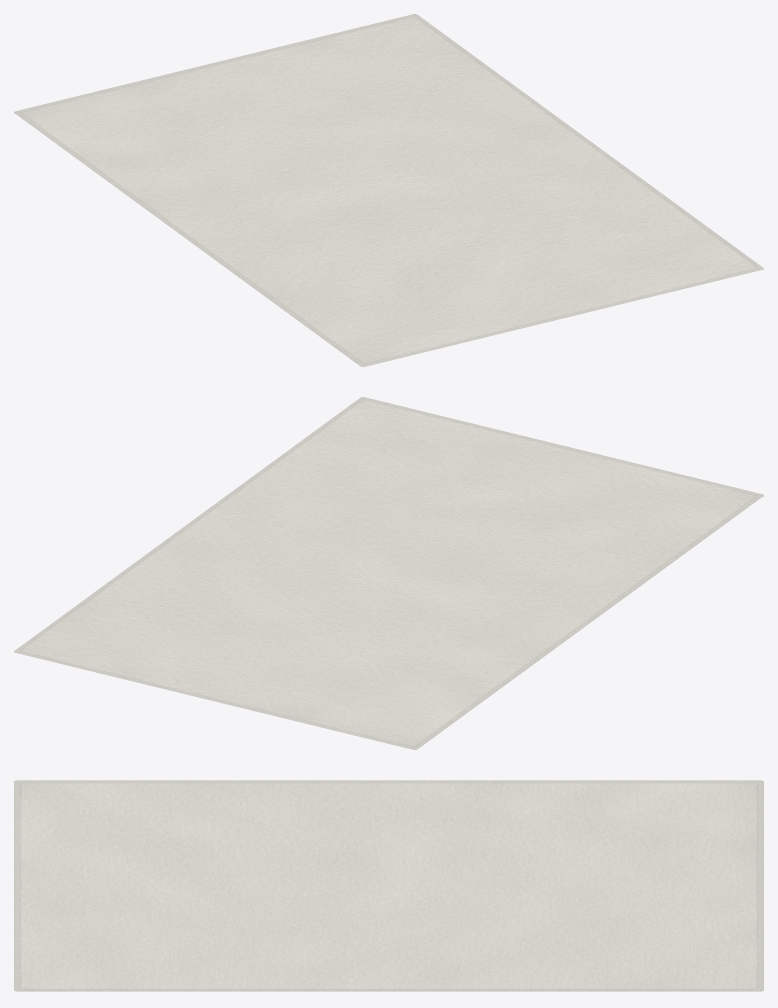
The model's file is ivory_XL.glb.
3 renders of one model, top to bottom at view 1: azimuth 30°, elevation 25°; view 2: azimuth 150°, elevation 25°; view 3: azimuth 270°, elevation 25°, orthographic. The views are drawn at different scales.
Parts seen in each view (by area): view 1: reliv_ivory_XL; view 2: reliv_ivory_XL; view 3: reliv_ivory_XL.
Boxes of the visible parts, left/top/right/bottom form: reliv_ivory_XL: left=14, top=14, right=763, bottom=366; reliv_ivory_XL: left=14, top=397, right=763, bottom=749; reliv_ivory_XL: left=14, top=780, right=763, bottom=991.
Size of the model in its own units: 2 by 0.009 by 3.
Materials: 2 (1 with a texture image).
